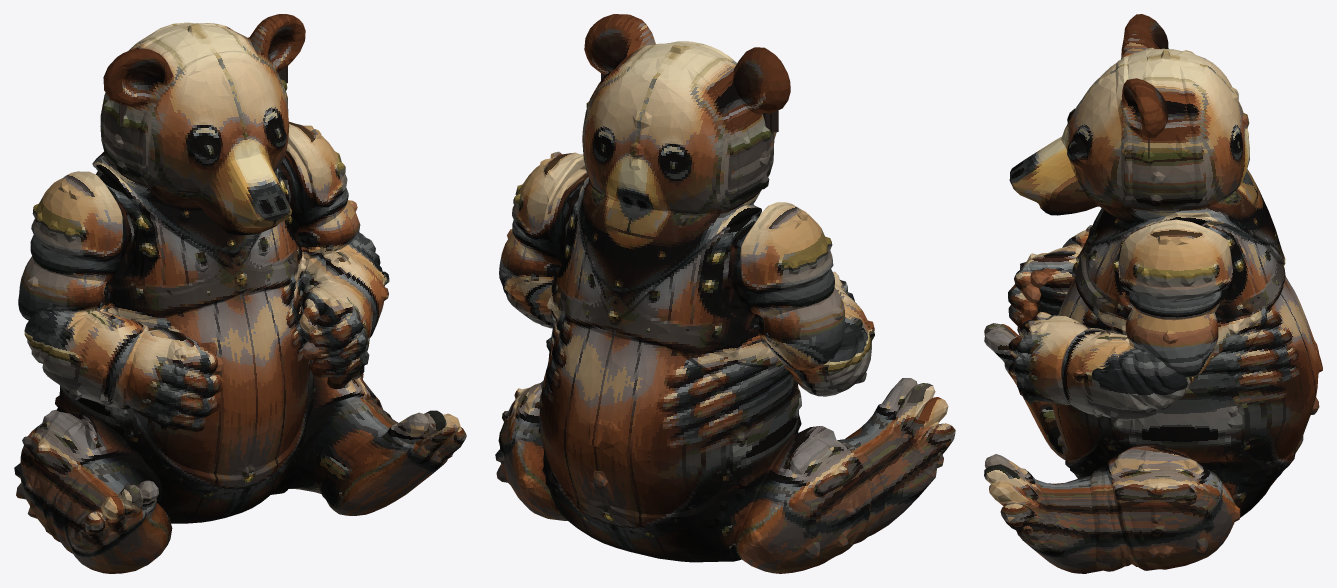
Rendered from bear.glb.
The picture shows the model from 3 angles, left to right: view 1: azimuth 30°, elevation 25°; view 2: azimuth 150°, elevation 25°; view 3: azimuth 270°, elevation 25°; orthographic projection. The views are drawn at different scales.
Parts seen in each view (by area): view 1: Body, Head, Lid; view 2: Body, Head, Lid; view 3: Body, Head, Lid.
Part boxes in pixels (<box>): Body: <box>14,18,466,573</box>; Head: <box>93,61,292,227</box>; Lid: <box>112,14,298,107</box>; Body: <box>495,20,955,573</box>; Head: <box>578,71,778,238</box>; Lid: <box>588,14,782,128</box>; Body: <box>984,97,1322,573</box>; Head: <box>1009,92,1256,225</box>; Lid: <box>1083,14,1238,138</box>.
Bounding box in the file's own units: 1.63 × 2 × 1.32.
Materials: 2 (1 with a texture image).
